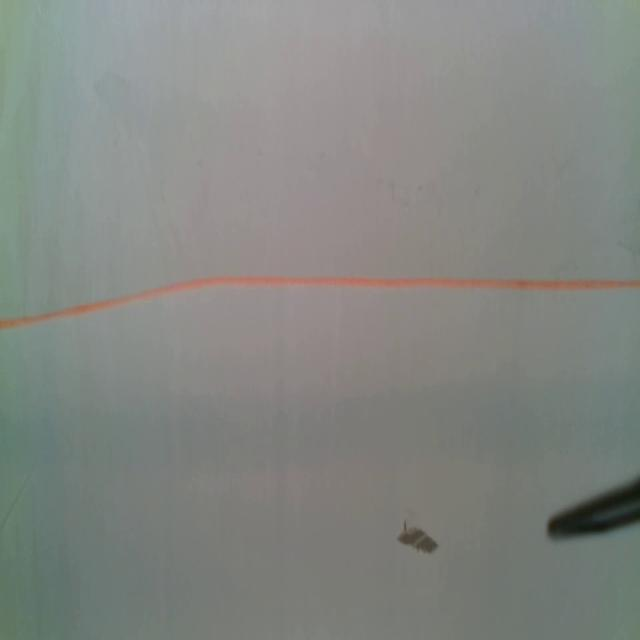color bleeding: (0, 366, 640, 470), (396, 519, 439, 560)
